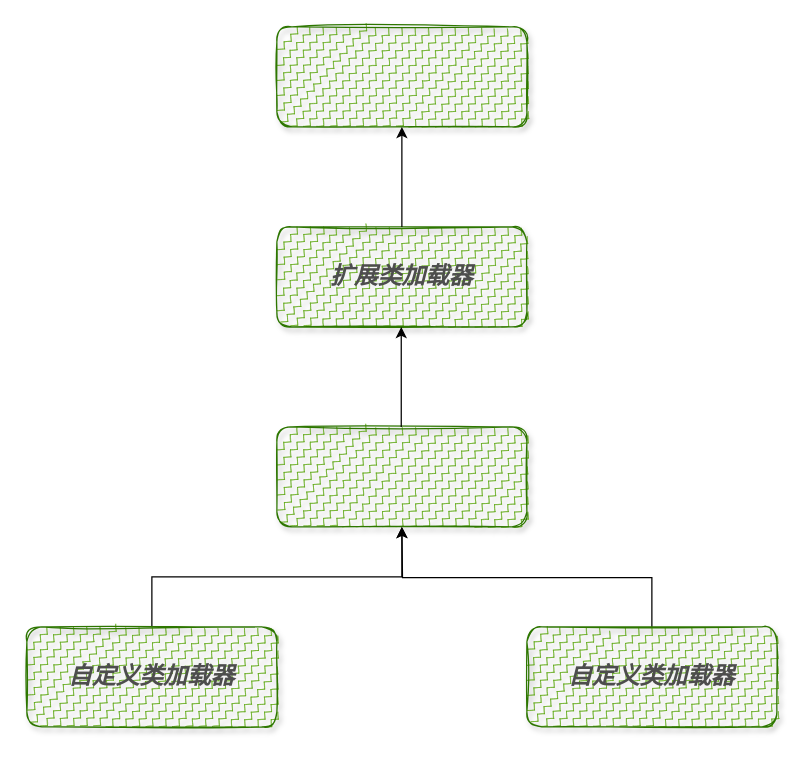
Image size: 806x758. Some labels were removed from this diagram. Each missing label, with the centre of its shape:
"启动类加载器" goes at point 402,78.
"应用程序类加载器" goes at point 402,478.
